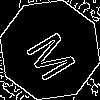M: (25, 25, 85, 84)
